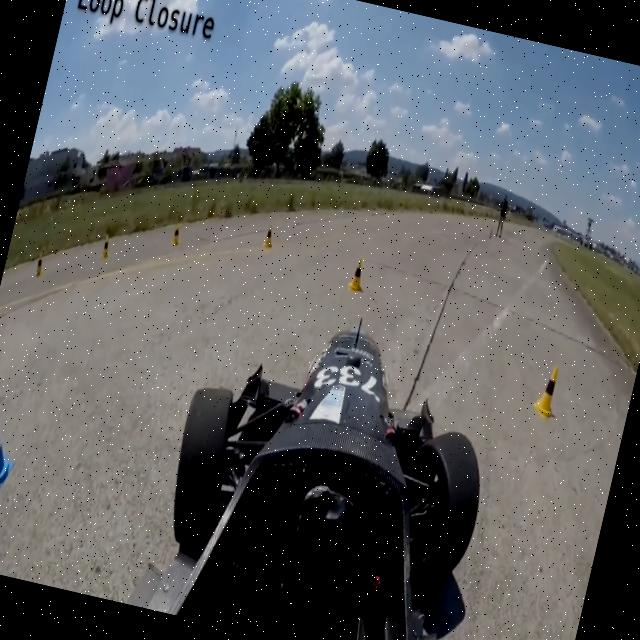blue_cone: (0, 385, 28, 503)
yellow_cone: (528, 350, 568, 424), (342, 248, 370, 294), (32, 247, 49, 280), (261, 224, 279, 252), (99, 232, 115, 262), (170, 220, 182, 247)
